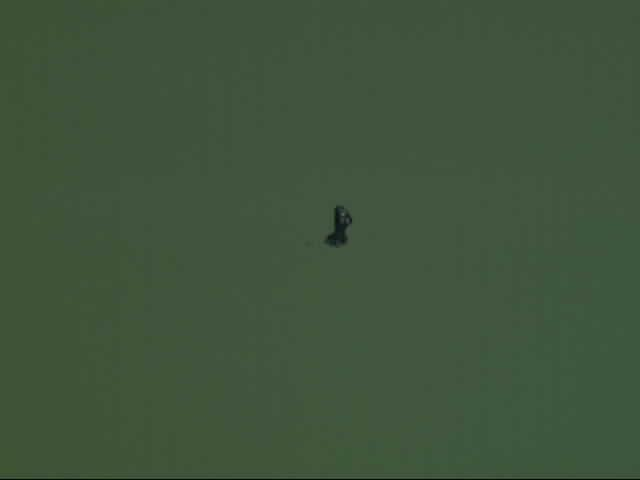PIQ PARTICLE: (321, 203, 355, 250)
